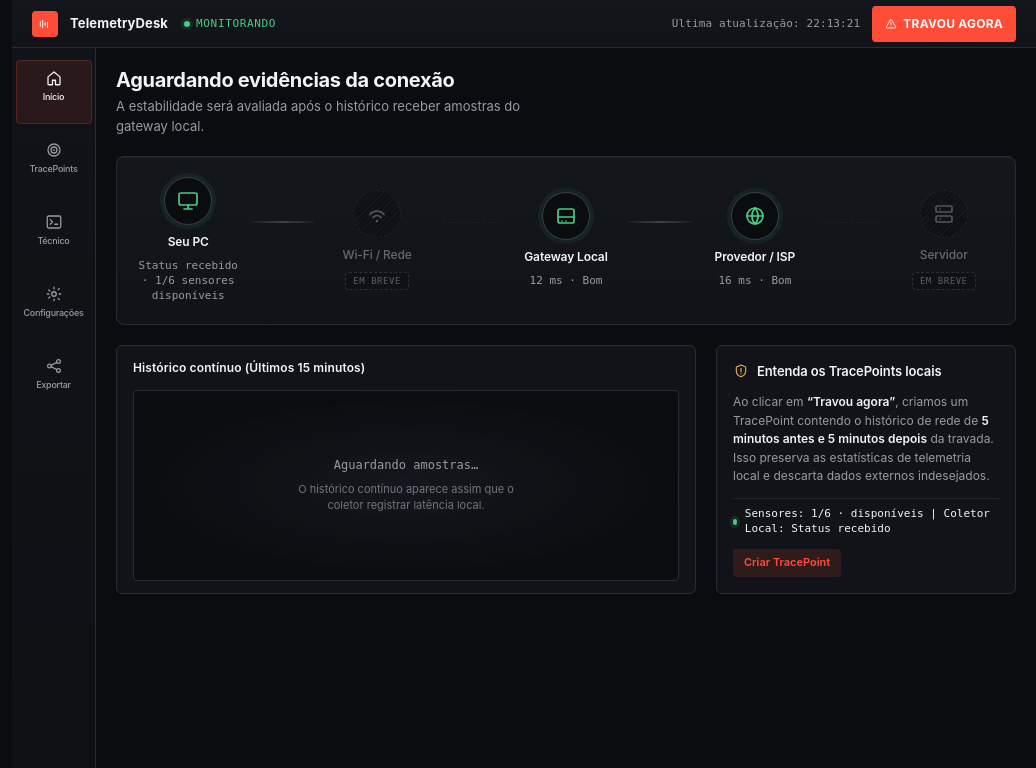
Test case: shows distinct settings panels per tab
Step 1. Click the button "Configurações" → (54, 308), box [16,276,92,340]
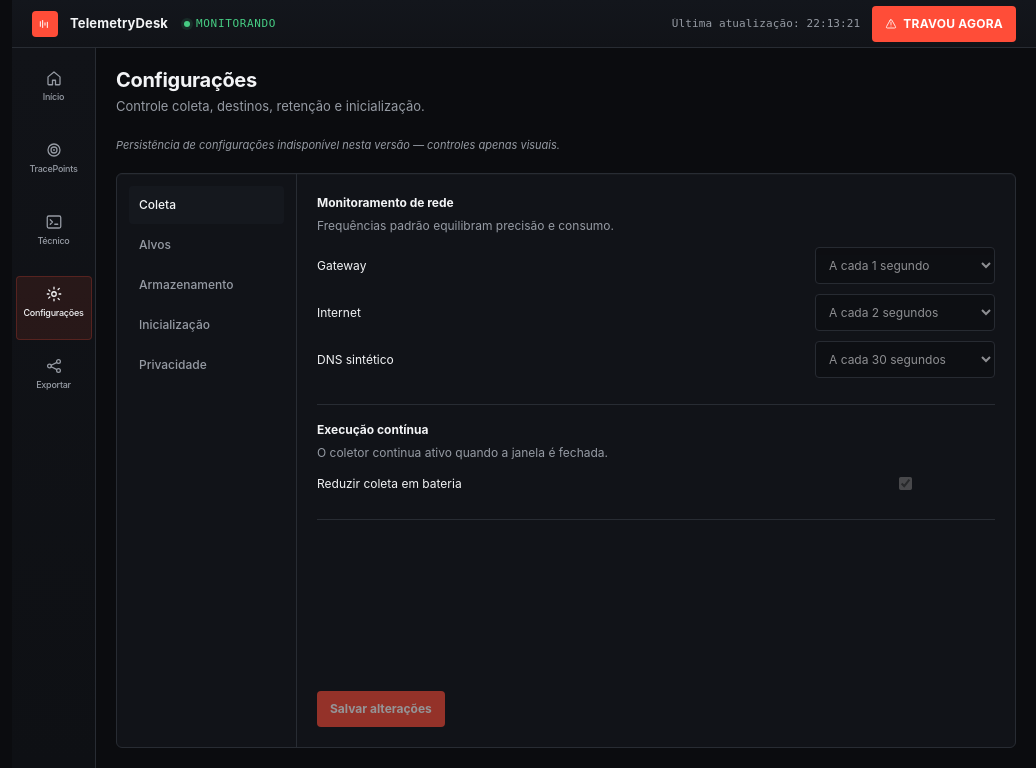
Now the heading "Monitoramento de rede" is shown, box [317,195,454,210]
Step 2. Click the button "Alvos" → (206, 245), box [129,226,284,264]
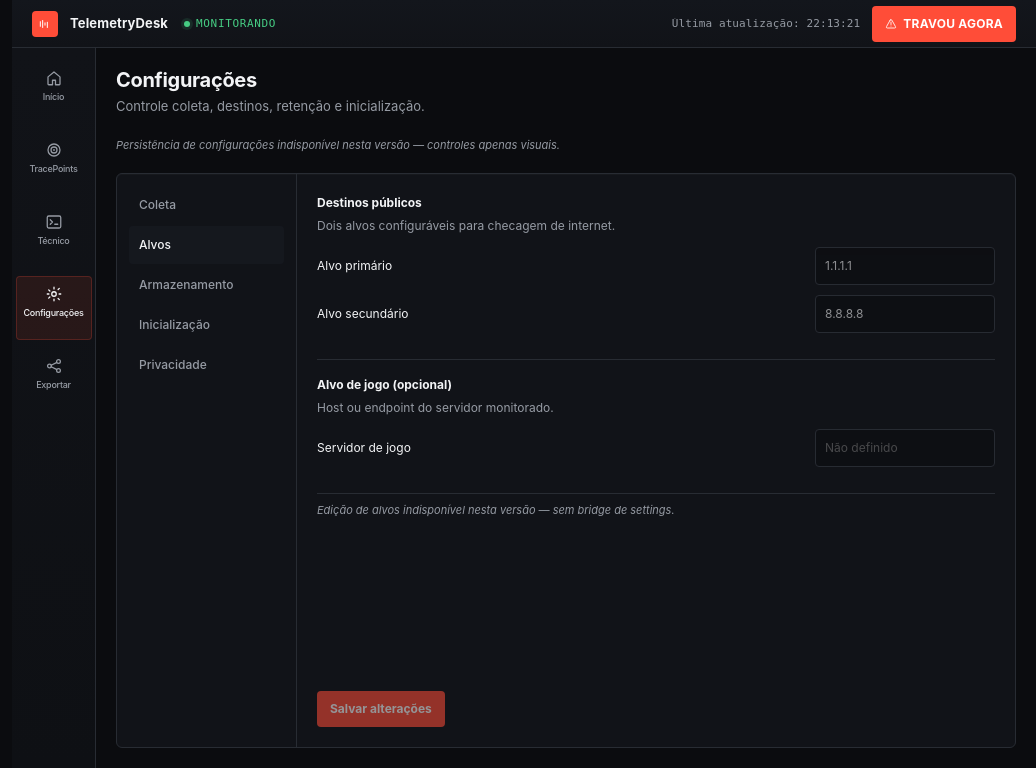
Now the heading "Destinos públicos" is shown, box [317,195,422,210]
Now the heading "Monitoramento de rede" is gone
Step 3. Click the button "Privacidade" → (206, 365), box [129,346,284,384]
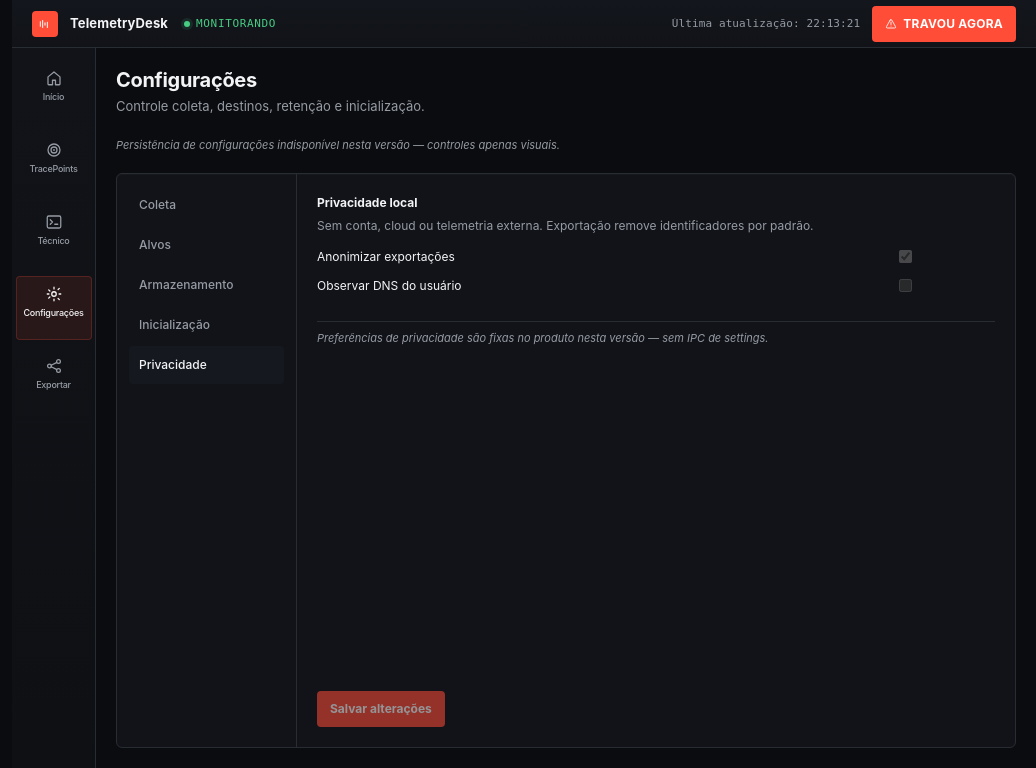
Now the heading "Privacidade local" is shown, box [317,195,417,210]
